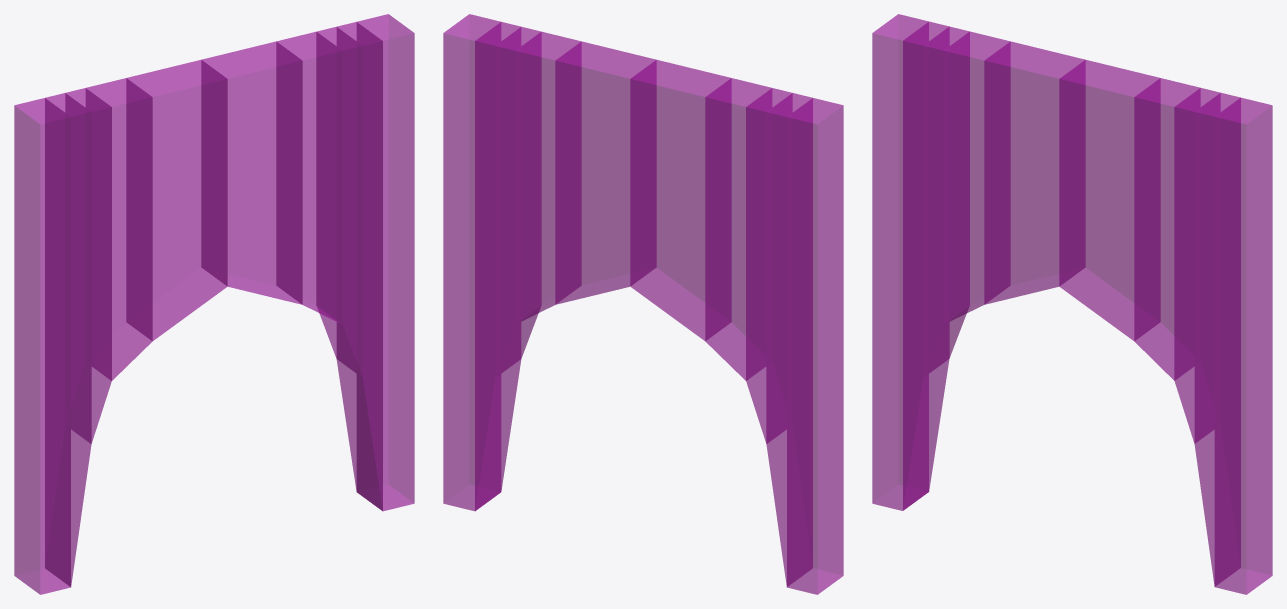
File: SM_Bld_Wall_Door_Round_01_Collision.fbx
The picture shows the model from 3 angles, left to right: view 1: azimuth 30°, elevation 25°; view 2: azimuth 150°, elevation 25°; view 3: azimuth 330°, elevation 25°; orthographic projection.
Parts seen in each view (by area): view 1: SM_Bld_Wall_Door_Round_01_Collision; view 2: SM_Bld_Wall_Door_Round_01_Collision; view 3: SM_Bld_Wall_Door_Round_01_Collision.
Part boxes in pixels (bbox=[...]): SM_Bld_Wall_Door_Round_01_Collision: bbox=[14, 14, 414, 594]; SM_Bld_Wall_Door_Round_01_Collision: bbox=[443, 14, 843, 594]; SM_Bld_Wall_Door_Round_01_Collision: bbox=[872, 14, 1272, 594].
Bounding box in the file's own units: 254 × 305 × 30.9.
